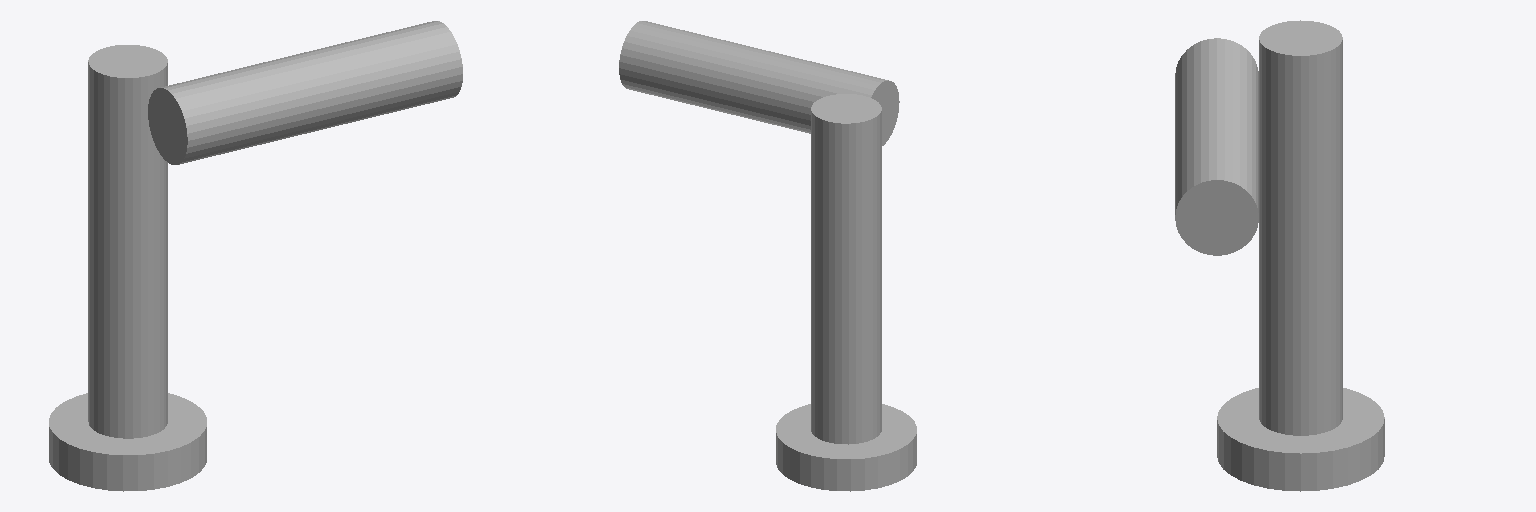
URDF robot description (hello_ros_robot):
<?xml version="1.0"?>
<robot name="hello_ros_robot">
  <link name="world"/>
  <link name="base_link">
    <visual>
      <geometry>
        <cylinder length="0.05" radius="0.1"/>
      </geometry>
      <material name="silver">
        <color rgba="0.75 0.75 0.75 1"/>
      </material>
      <origin rpy="0 0 0" xyz="0 0 0.025"/>
    </visual>
    <collision>
      <geometry>
        <cylinder length="0.05" radius="0.1"/>
      </geometry>
      <origin rpy="0 0 0" xyz="0 0 0.025"/>
    </collision>
    <inertial>
      <mass value="1.0"/>
      <origin rpy="0 0 0" xyz="0 0 0.025"/>
      <inertia ixx="0.0027" iyy="0.0027" izz="0.005" ixy="0" ixz="0" iyz="0"/>
    </inertial>
  </link>
  <joint name="fixed" type="fixed">
    <parent link="world"/>
    <child link="base_link"/>
  </joint>
  <link name="torso">
    <visual>
      <geometry>
        <cylinder length="0.5" radius="0.05"/>
      </geometry>
      <material name="silver">
        <color rgba="0.75 0.75 0.75 1"/>
      </material>
      <origin rpy="0 0 0" xyz="0 0 0.25"/>
    </visual>
    <collision>
      <geometry>
        <cylinder length="0.5" radius="0.05"/>
      </geometry>
      <origin rpy="0 0 0" xyz="0 0 0.25"/>
    </collision>
    <inertial>
      <mass value="1.0"/>
      <origin rpy="0 0 0" xyz="0 0 0.25"/>
      <inertia ixx="0.02146" iyy="0.02146" izz="0.00125" ixy="0" ixz="0" iyz="0"/>
    </inertial>
  </link>
  <joint name="hip" type="continuous">
    <axis xyz="0 0 1"/>
    <parent link="base_link"/>
    <child link="torso"/>
    <origin rpy="0 0 0" xyz="0.0 0.0 0.05"/>
  </joint>
  <link name="upper_arm">
    <visual>
      <geometry>
        <cylinder length="0.4" radius="0.05"/>
      </geometry>
      <material name="silver"/>
      <origin rpy="0 0 0" xyz="0 0 0.2"/>
    </visual>
    <collision>
      <geometry>
        <cylinder length="0.4" radius="0.05"/>
      </geometry>
      <origin rpy="0 0 0" xyz="0 0 0.2"/>
    </collision>
    <inertial>
      <mass value="1.0"/>
      <origin rpy="0 0 0" xyz="0 0 0.2"/>
      <inertia ixx="0.01396" iyy="0.01396" izz="0.00125" ixy="0" ixz="0" iyz="0"/>
    </inertial>
  </link>
  <joint name="shoulder" type="continuous">
    <axis xyz="0 1 0"/>
    <parent link="torso"/>
    <child link="upper_arm"/>
    <origin rpy="0 1.5708 0" xyz="0.0 -0.1 0.45"/>
  </joint>
</robot>

--- Facts derived from the render (not from the file) ---
3 views of the same robot in one strip: view 1: azimuth 30°, elevation 25°; view 2: azimuth 150°, elevation 25°; view 3: azimuth 270°, elevation 25° (orthographic).
Model hello_ros_robot with 4 links and 3 joints (2 continuous, 1 fixed), rooted at world, posed all joints at 0.
Links seen in each view (by area): view 1: torso, upper_arm, base_link; view 2: torso, upper_arm, base_link; view 3: torso, upper_arm, base_link.
Link boxes in pixels (x1,y1,x2,y2): torso: (88,45,167,438); upper_arm: (148,21,462,164); base_link: (49,393,206,491); torso: (811,94,881,444); upper_arm: (619,21,899,145); base_link: (776,404,916,491); torso: (1259,20,1342,435); upper_arm: (1175,38,1258,255); base_link: (1217,388,1384,491).
Bounding box of the posed robot: 0.5 × 0.25 × 0.55 m (x, y, z).
Geometry: primitives only (box / cylinder / sphere), no mesh files.